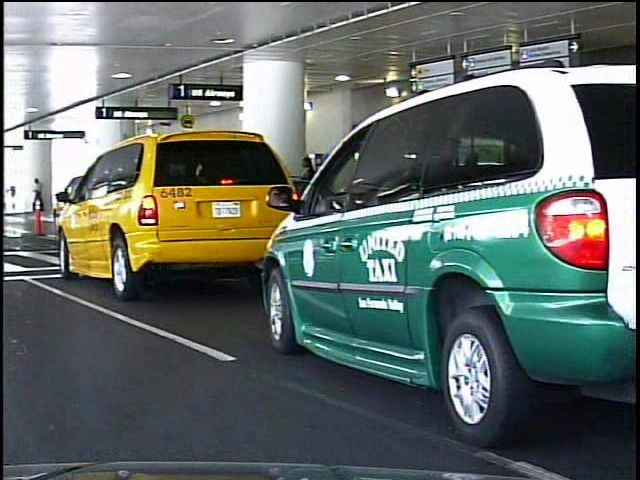person: (27, 176, 40, 201)
